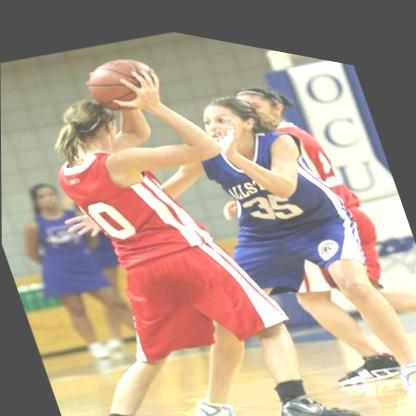basketball: (77, 36, 165, 122)
